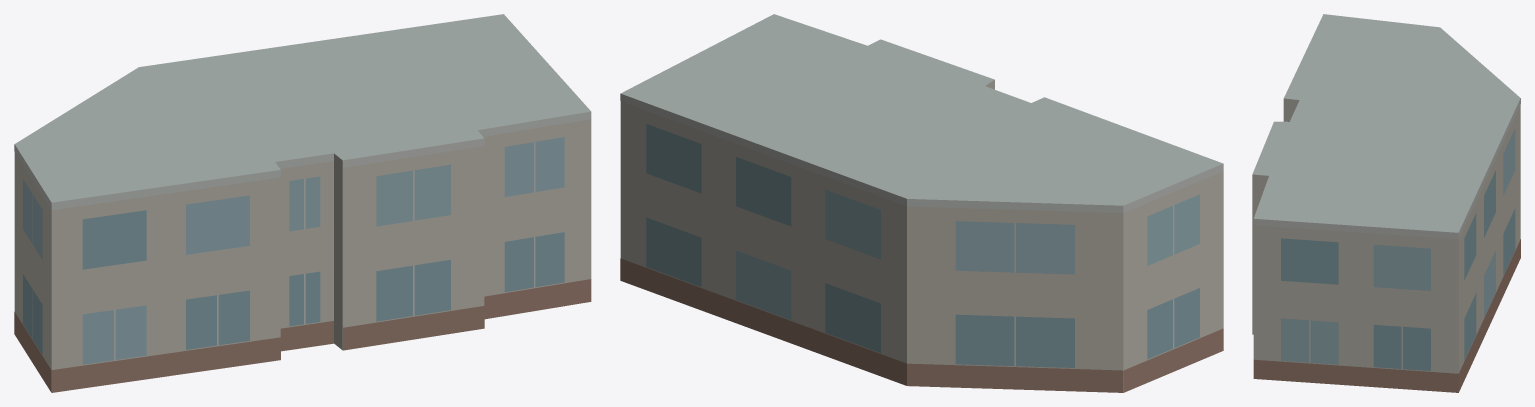
Rendered from survey-upis-32881077.glb.
3 renders of one model, left to right at view 1: azimuth 30°, elevation 25°; view 2: azimuth 150°, elevation 25°; view 3: azimuth 270°, elevation 25°, orthographic. The views are drawn at different scales.
Parts seen in each view (by area): view 1: survey-upis-32881077.tmp; view 2: survey-upis-32881077.tmp; view 3: survey-upis-32881077.tmp.
Part boxes in pixels (x1,y1,x2,y2): survey-upis-32881077.tmp: [14, 14, 591, 392]; survey-upis-32881077.tmp: [620, 14, 1223, 392]; survey-upis-32881077.tmp: [1252, 14, 1520, 392].
Size of the model in its own units: 17.89 by 6.1 by 9.28.
